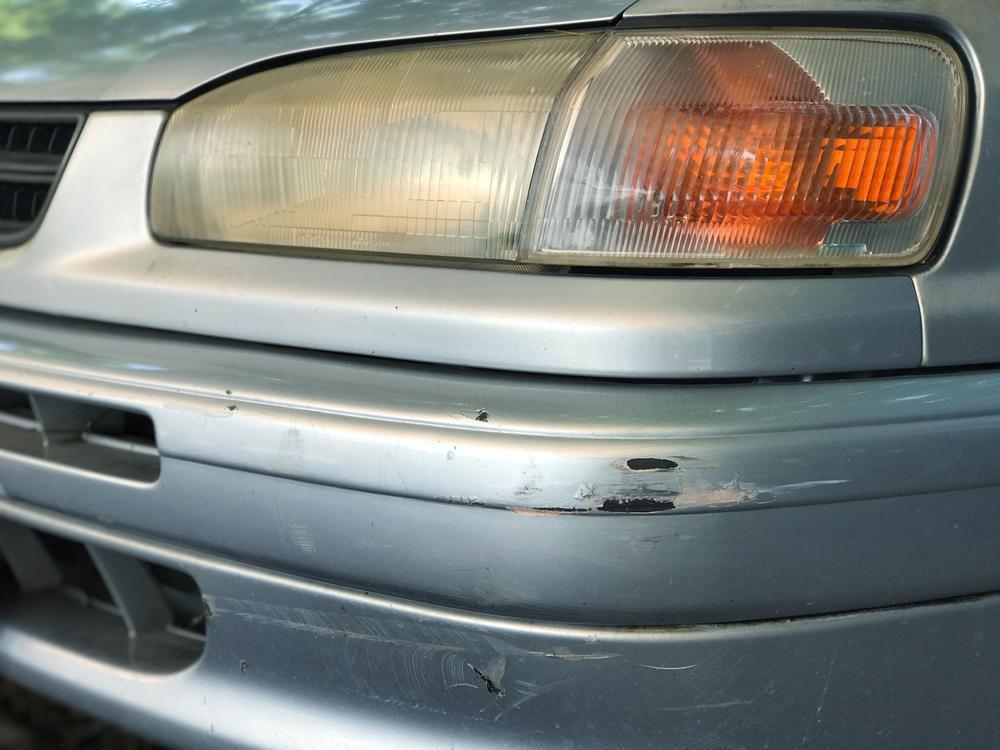scratch: (202, 592, 637, 723), (509, 450, 858, 518)
